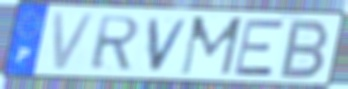B: (276, 18, 332, 80)
E: (232, 18, 286, 78)
M: (177, 15, 245, 78)
R: (88, 14, 143, 72)
V: (50, 10, 99, 74), (147, 17, 193, 73)
